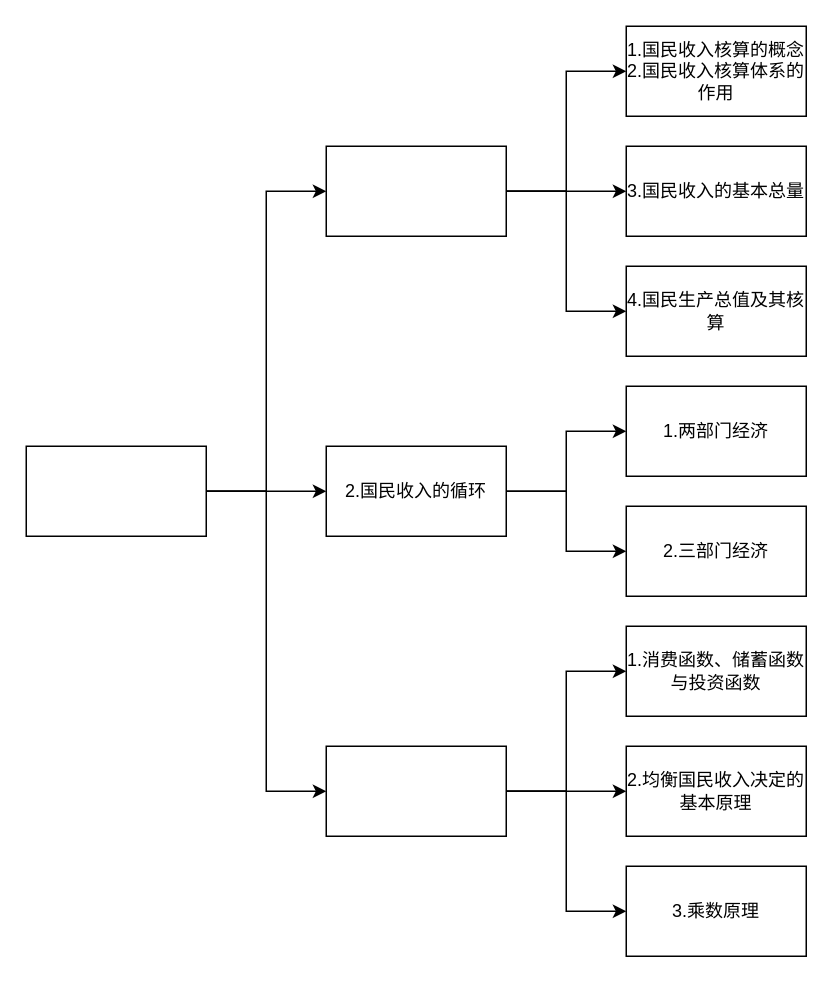
The diagram is 833 pixels wide and 983 high, and some of its shapes have lost their labels. Each missing label, with the box of its shape:
1.国民收入的核算: (325, 145, 506, 236)
3.均衡国民收入的决定: (325, 745, 506, 836)
国民收入概述: (25, 445, 206, 536)
